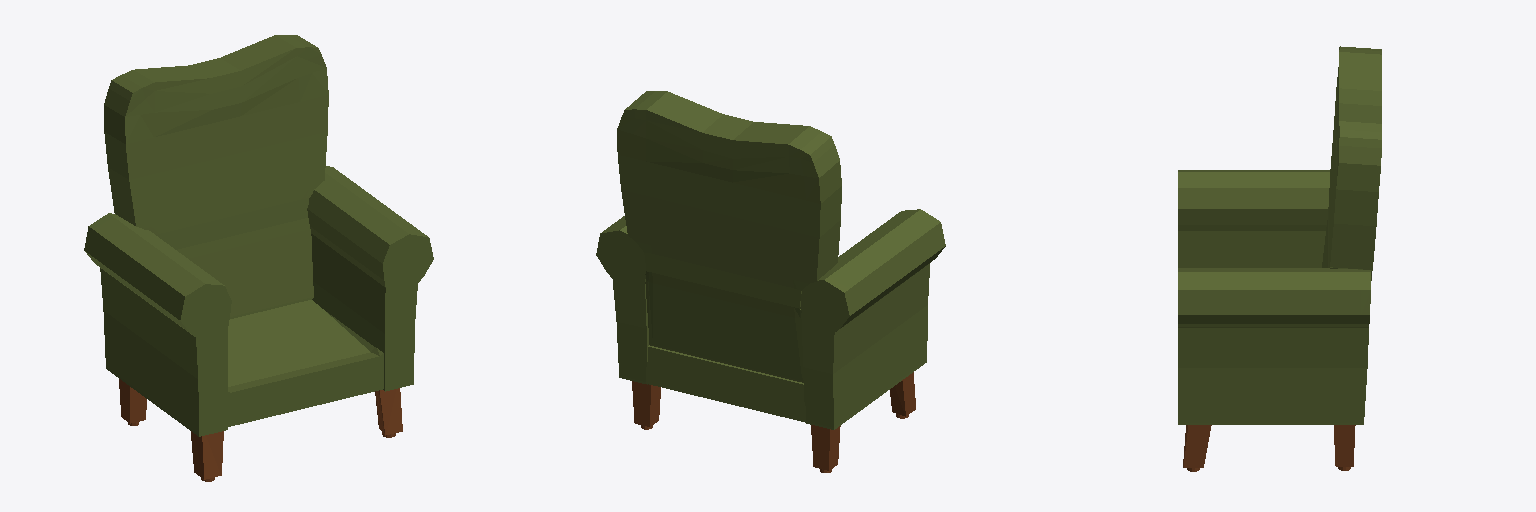
The model's file is chair.obj.
3 renders of one model, left to right at view 1: azimuth 30°, elevation 25°; view 2: azimuth 150°, elevation 25°; view 3: azimuth 270°, elevation 25°, orthographic.
Parts seen in each view (by area): view 1: chairGroup Backrest, chairGroup Sides, Cushion chairGroup, chairGroup Front_foot, chairGroup Back_foot; view 2: chairGroup Backrest, chairGroup Sides, Cushion chairGroup, chairGroup Back_foot, chairGroup Front_foot; view 3: chairGroup Sides, chairGroup Backrest, chairGroup Front_foot, chairGroup Back_foot.
Boxes of the visible parts, x1,y1,x2,y2 form: chairGroup Backrest: [104, 35, 328, 318]; chairGroup Sides: [84, 166, 433, 436]; Cushion chairGroup: [228, 300, 383, 426]; chairGroup Front_foot: [191, 388, 402, 481]; chairGroup Back_foot: [119, 379, 146, 425]; chairGroup Backrest: [617, 91, 841, 382]; chairGroup Sides: [596, 209, 945, 429]; Cushion chairGroup: [646, 345, 805, 422]; chairGroup Back_foot: [632, 381, 840, 472]; chairGroup Front_foot: [890, 372, 915, 418]; chairGroup Sides: [1178, 170, 1370, 424]; chairGroup Backrest: [1322, 46, 1381, 280]; chairGroup Front_foot: [1183, 425, 1211, 471]; chairGroup Back_foot: [1334, 425, 1355, 470].
Bounding box in the file's own units: 8.84 × 11.27 × 6.18.